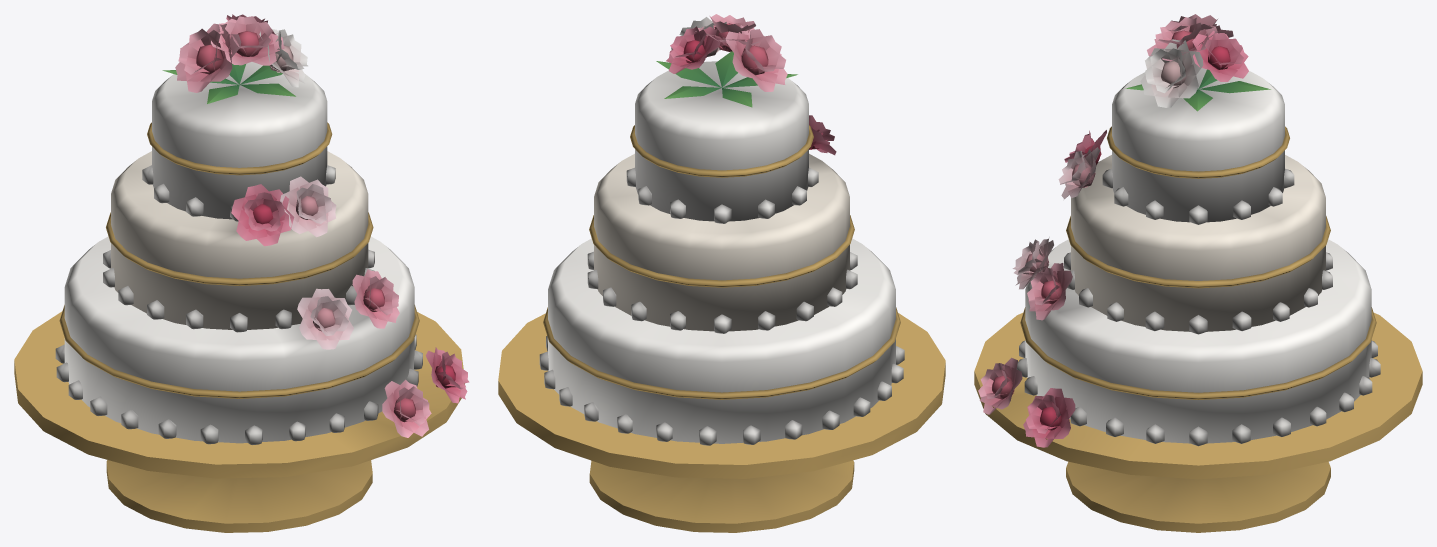
The model's file is banh-cuoi.glb.
The picture shows the model from 3 angles, left to right: view 1: azimuth 30°, elevation 25°; view 2: azimuth 150°, elevation 25°; view 3: azimuth 270°, elevation 25°; orthographic projection.
Parts seen in each view (by area): view 1: banh-cuoi; view 2: banh-cuoi; view 3: banh-cuoi.
Part boxes in pixels (bbox=[...]): banh-cuoi: bbox=[14, 14, 469, 532]; banh-cuoi: bbox=[498, 14, 945, 532]; banh-cuoi: bbox=[974, 14, 1422, 532].
Size of the model in its own units: 0.44 by 0.4925 by 0.44.
